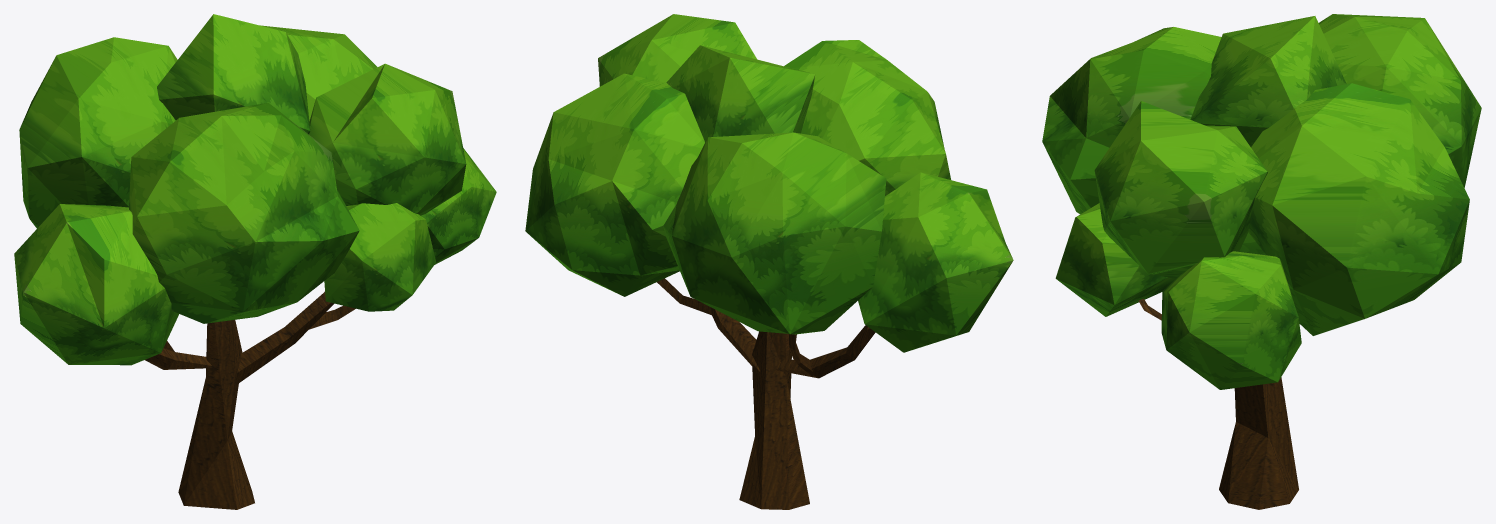
Rendered from Tree_separate.fbx.
3 views of the same model, side by side, from view 1: azimuth 30°, elevation 25°; view 2: azimuth 150°, elevation 25°; view 3: azimuth 270°, elevation 25° (orthographic). The views are drawn at different scales.
Parts seen in each view (by area): view 1: Tree.3, Tree.005, Tree.004, Tree.001; view 2: Tree.005, Tree.3, Tree.001, Tree.004; view 3: Tree.3, Tree.001, Tree.004, Tree.005.
Boxes of the visible parts, left/top/right/bottom form: Tree.3: left=129, top=14, right=466, bottom=509; Tree.005: left=14, top=37, right=204, bottom=369; Tree.004: left=245, top=148, right=496, bottom=372; Tree.001: left=260, top=25, right=377, bottom=121; Tree.005: left=663, top=132, right=1013, bottom=378; Tree.3: left=598, top=14, right=950, bottom=509; Tree.001: left=525, top=73, right=704, bottom=296; Tree.004: left=657, top=278, right=756, bottom=364; Tree.3: left=1042, top=16, right=1346, bottom=509; Tree.001: left=1239, top=83, right=1469, bottom=335; Tree.004: left=1055, top=203, right=1301, bottom=389; Tree.005: left=1318, top=14, right=1481, bottom=187.
Bounding box in the file's own units: 820 × 768 × 627.
